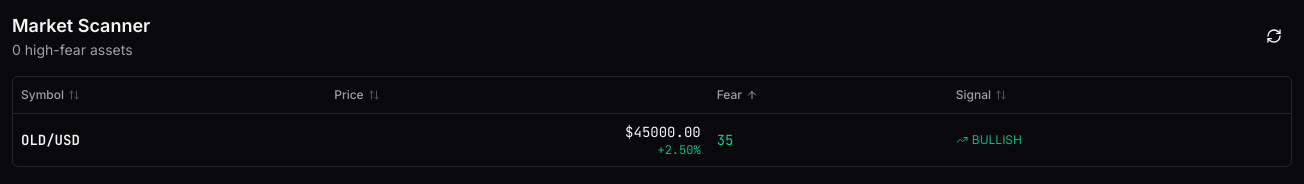
MarketScanner › updates assets after successful fetch
Expected: the text "OLD/USD" is shown, [21,130,80,148]
Note: Click refresh
Click the button named "Refresh scanner": (1274, 36) [1256,20,1292,52]
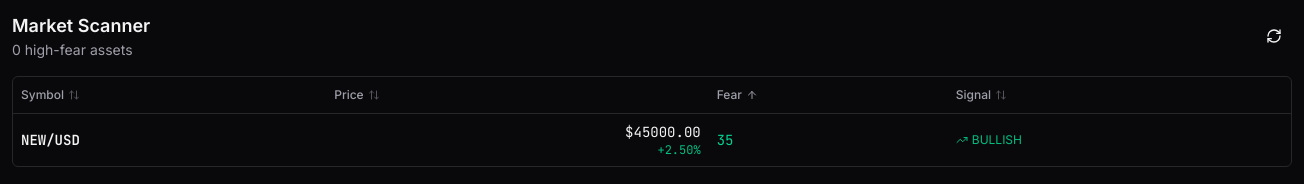
Expected: the text "NEW/USD" is shown, [21,130,80,148]
